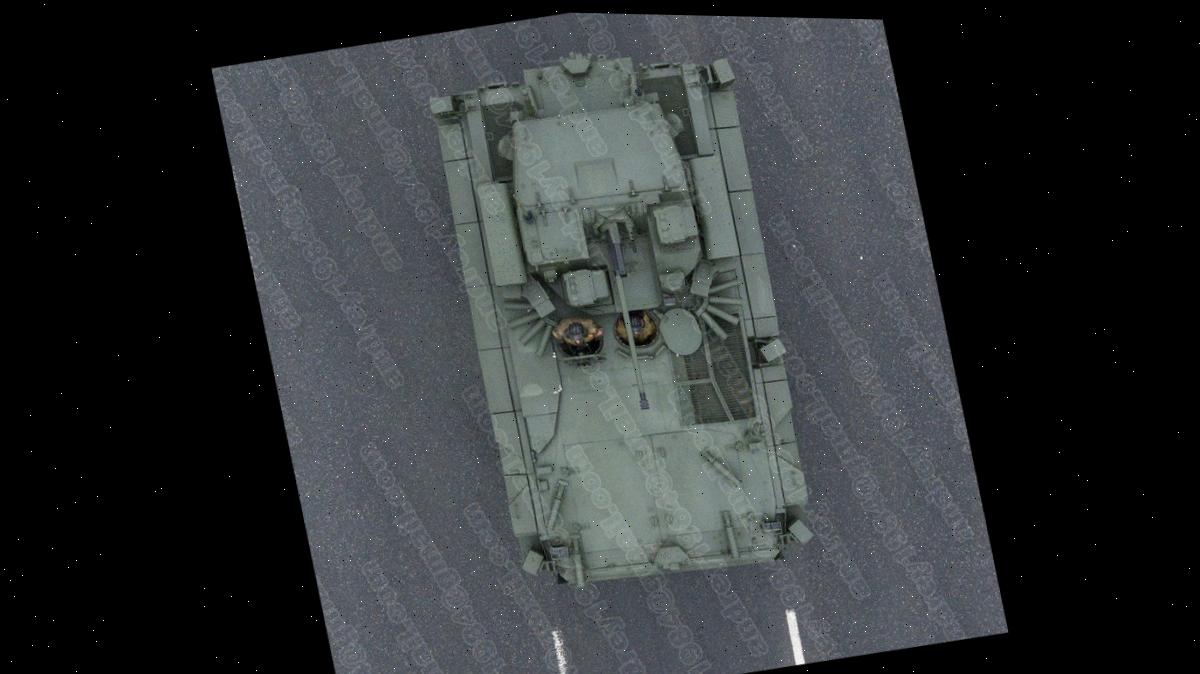armored_car: (388, 19, 858, 633)
